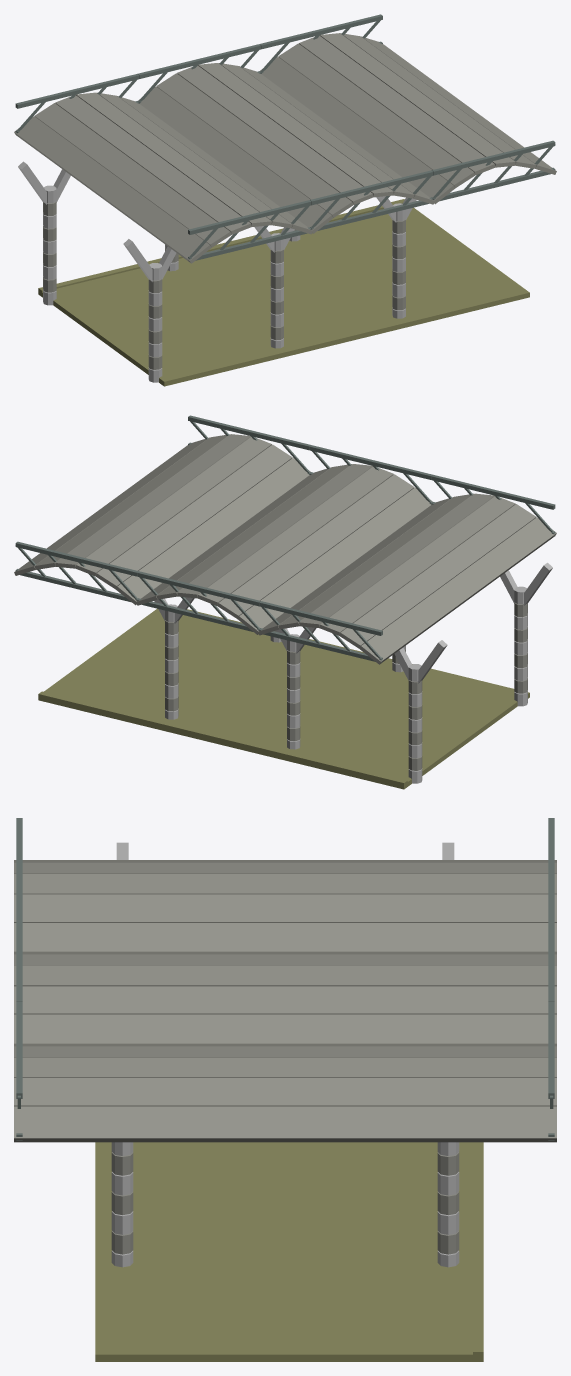
File: SM_MarquesinaBus_v0_Limpia_e0_Sano_LOD0.fbx
3 views of the same model, one above another, from view 1: azimuth 30°, elevation 25°; view 2: azimuth 150°, elevation 25°; view 3: azimuth 270°, elevation 25° (orthographic). The views are drawn at different scales.
Visible parts, largest first — view 1: SM_marquesina_bus_v0_LOD0; view 2: SM_marquesina_bus_v0_LOD0; view 3: SM_marquesina_bus_v0_LOD0.
Boxes of the visible parts, left/top/right/bottom form: SM_marquesina_bus_v0_LOD0: left=14, top=14, right=556, bottom=386; SM_marquesina_bus_v0_LOD0: left=14, top=415, right=556, bottom=789; SM_marquesina_bus_v0_LOD0: left=14, top=818, right=556, bottom=1361.
Bounding box in the file's own units: 13.02 × 5.46 × 10.
